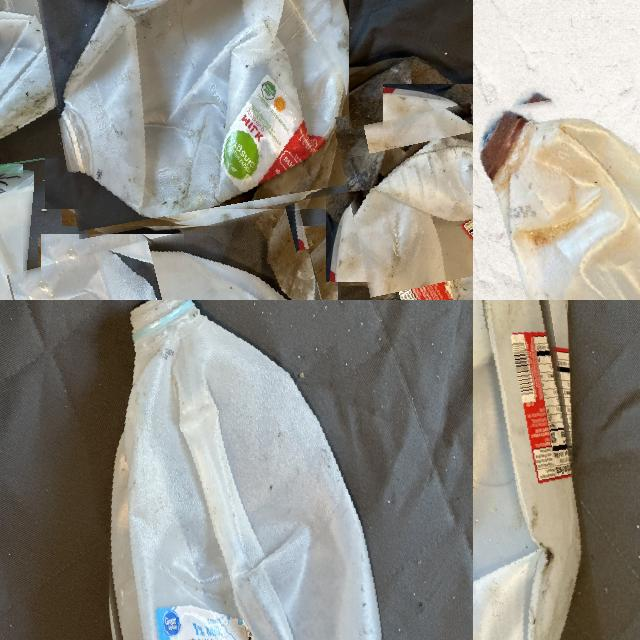milk-jug: (82, 300, 389, 640), (42, 0, 352, 228), (473, 300, 596, 640), (483, 80, 640, 300), (23, 219, 354, 300), (344, 104, 473, 300), (0, 0, 100, 172)
